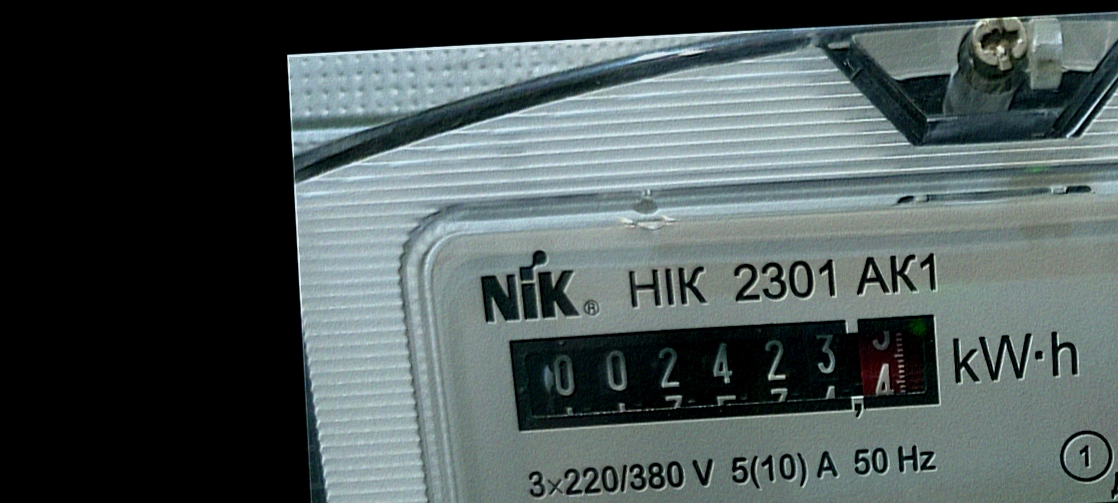0: (551, 350, 580, 400), (605, 348, 632, 394)
2: (656, 343, 684, 391), (764, 337, 789, 384)
3: (814, 331, 840, 377), (872, 328, 894, 352)
4: (711, 340, 735, 387), (872, 359, 899, 398)
screen: (499, 303, 955, 444)
